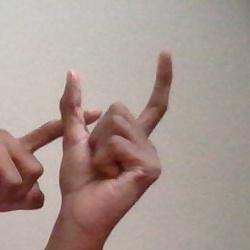Y: (1, 13, 206, 250)
